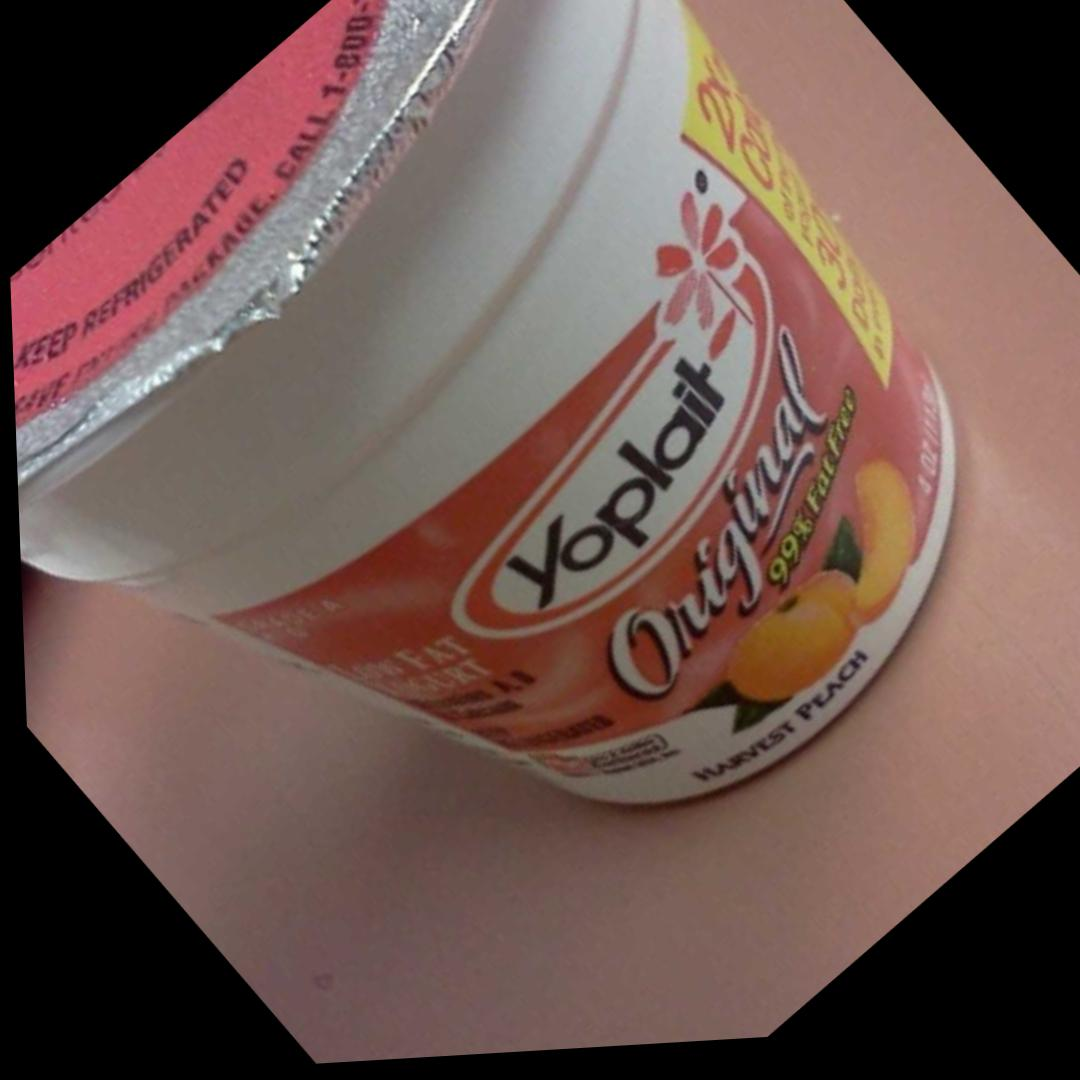plastic: (18, 0, 1079, 1061)
